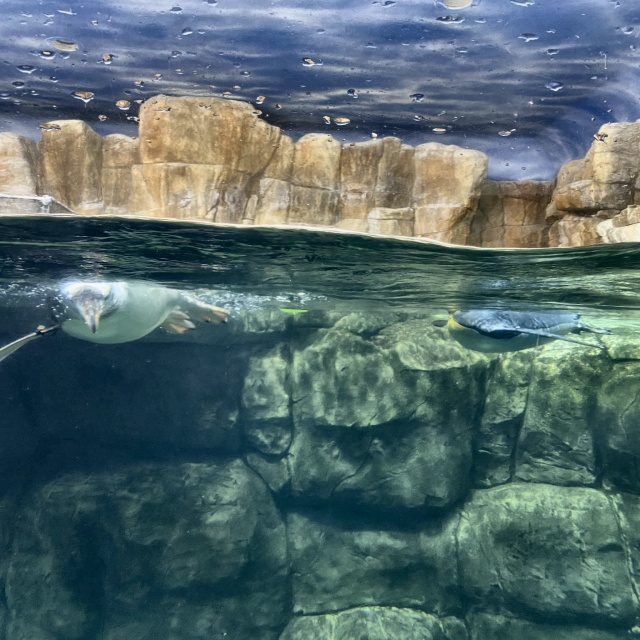penguin: (0, 278, 233, 365), (448, 313, 615, 357)
